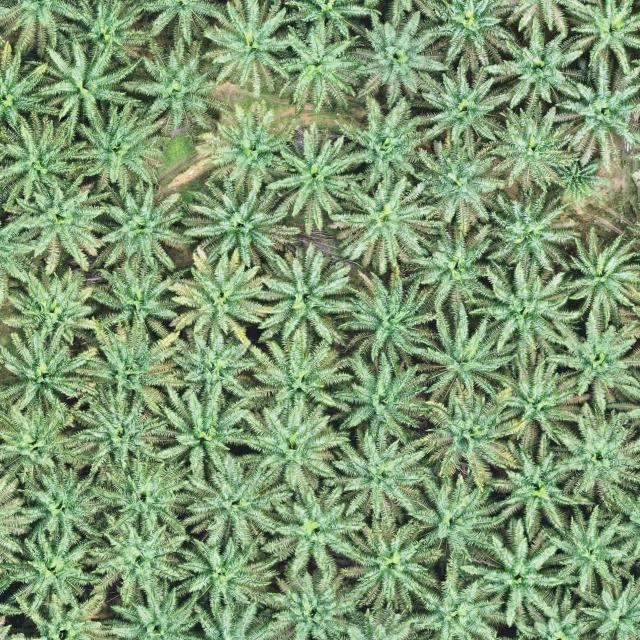Tree: (328, 164, 452, 276), (411, 385, 528, 490), (247, 243, 357, 353), (0, 170, 115, 274), (120, 29, 230, 136), (452, 526, 563, 632), (256, 478, 372, 579), (184, 175, 302, 272), (22, 32, 147, 123), (409, 301, 523, 399), (467, 183, 587, 276), (475, 436, 581, 541), (155, 533, 280, 622), (70, 316, 190, 408), (331, 93, 440, 194), (468, 261, 586, 354), (318, 353, 438, 443), (184, 452, 296, 548), (541, 306, 640, 413), (476, 13, 586, 109), (333, 518, 440, 615), (346, 8, 448, 109), (67, 98, 170, 198), (267, 124, 362, 232), (247, 399, 358, 490), (154, 379, 255, 479), (553, 56, 640, 172), (412, 133, 511, 234), (338, 262, 435, 365), (246, 328, 358, 417), (540, 228, 640, 327), (272, 16, 373, 114), (553, 398, 640, 511), (72, 381, 171, 480), (0, 319, 101, 416), (84, 513, 190, 605), (496, 347, 593, 445), (168, 251, 266, 348), (93, 182, 192, 278), (0, 526, 103, 618), (324, 428, 426, 520), (0, 110, 89, 214), (406, 468, 506, 560), (95, 449, 197, 539), (192, 100, 299, 184), (200, 0, 294, 94), (488, 99, 583, 190), (0, 258, 98, 344), (412, 65, 509, 149), (406, 222, 499, 305), (91, 258, 185, 339), (412, 562, 508, 640), (418, 0, 520, 73), (9, 468, 106, 544), (260, 566, 359, 640), (0, 392, 80, 483), (550, 500, 628, 591), (166, 331, 256, 404), (57, 0, 152, 69), (6, 585, 121, 640), (0, 0, 97, 63), (106, 579, 206, 640), (565, 0, 640, 79), (504, 585, 606, 640), (575, 570, 640, 640), (136, 0, 232, 43), (497, 0, 602, 38), (607, 456, 640, 573), (614, 264, 640, 369), (612, 353, 640, 450), (554, 158, 602, 195)
